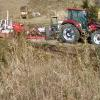Tractor: (50, 3, 100, 56)
